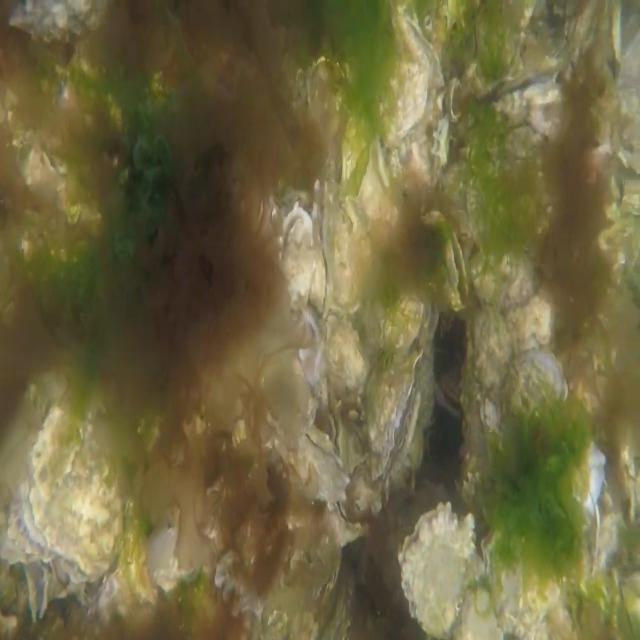Oyster-Closed: (480, 518, 560, 632), (267, 424, 350, 512), (368, 349, 424, 479), (324, 496, 369, 548)
Oyster-Indeterminate: (18, 403, 120, 584), (500, 348, 606, 510), (398, 502, 476, 637), (339, 111, 395, 265), (373, 0, 429, 143), (470, 300, 514, 473), (322, 307, 367, 428), (466, 239, 539, 311), (381, 281, 439, 364), (143, 524, 194, 600), (332, 186, 358, 317), (610, 196, 640, 276)
Oyster-Open: (473, 70, 565, 158), (278, 196, 316, 310), (312, 178, 331, 313), (444, 228, 470, 310), (599, 0, 623, 80), (306, 394, 337, 452)
